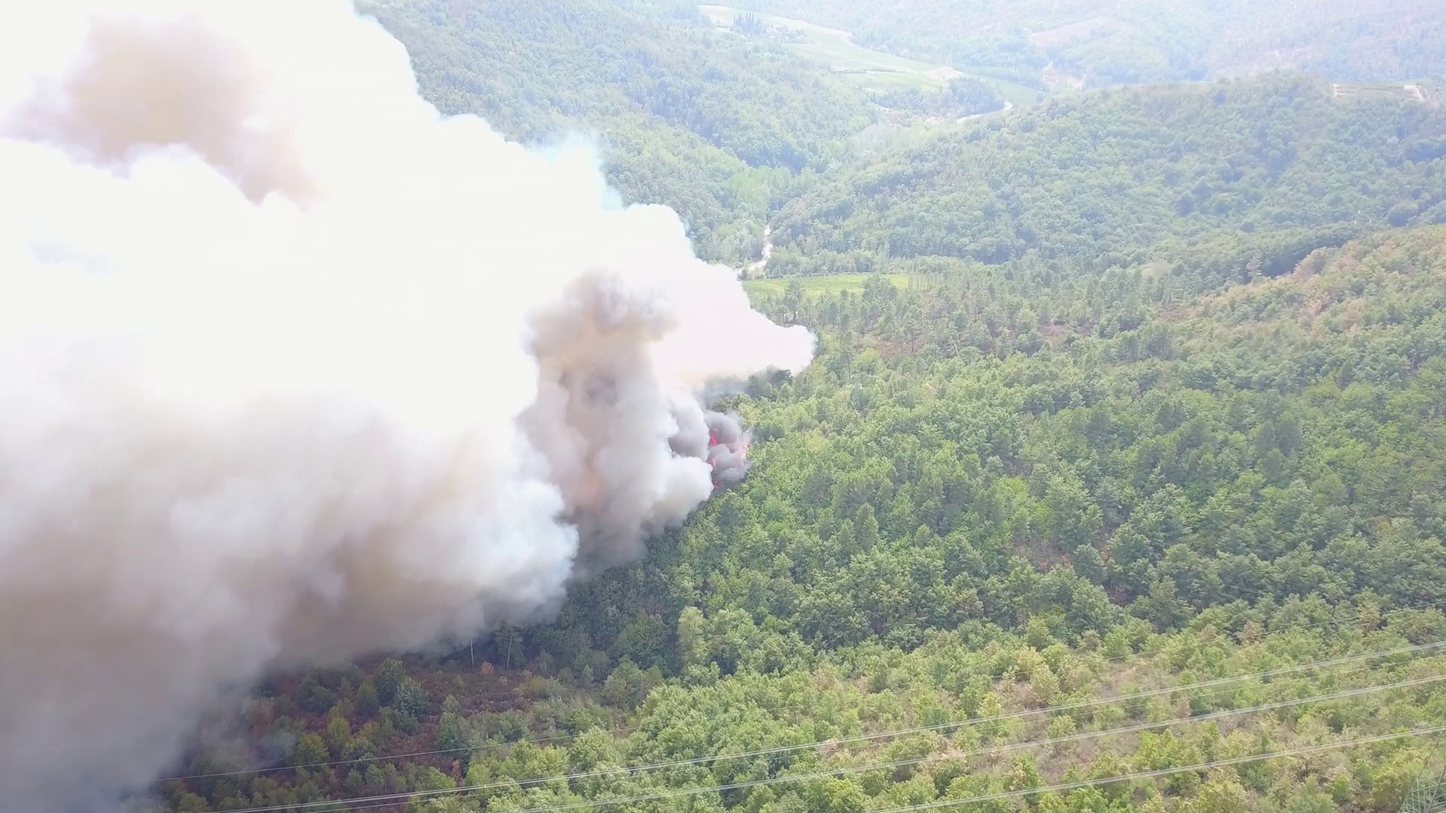forest_fire: (670, 411, 747, 485)
